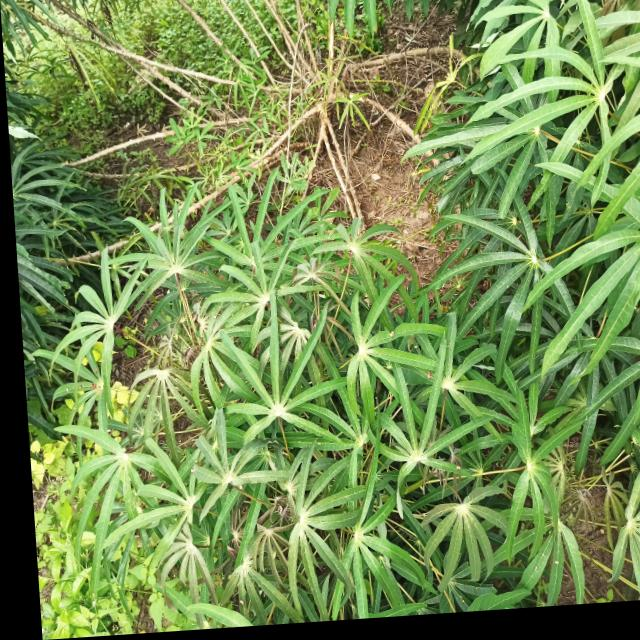Mosca: (387, 323, 399, 344), (268, 547, 279, 564), (236, 597, 249, 609), (233, 480, 244, 491), (420, 509, 430, 519)
